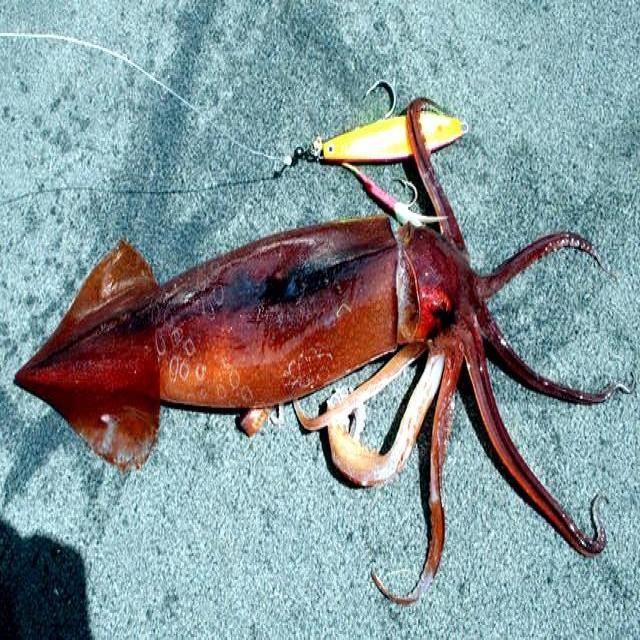SQUID: (0, 178, 620, 543)
